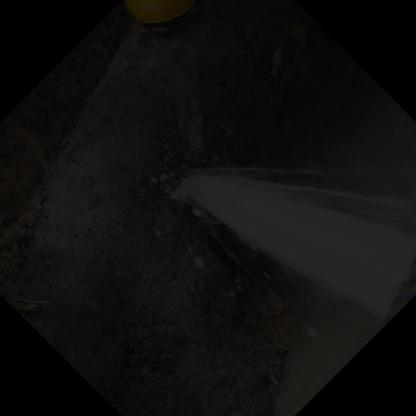burst: (137, 162, 219, 245)
